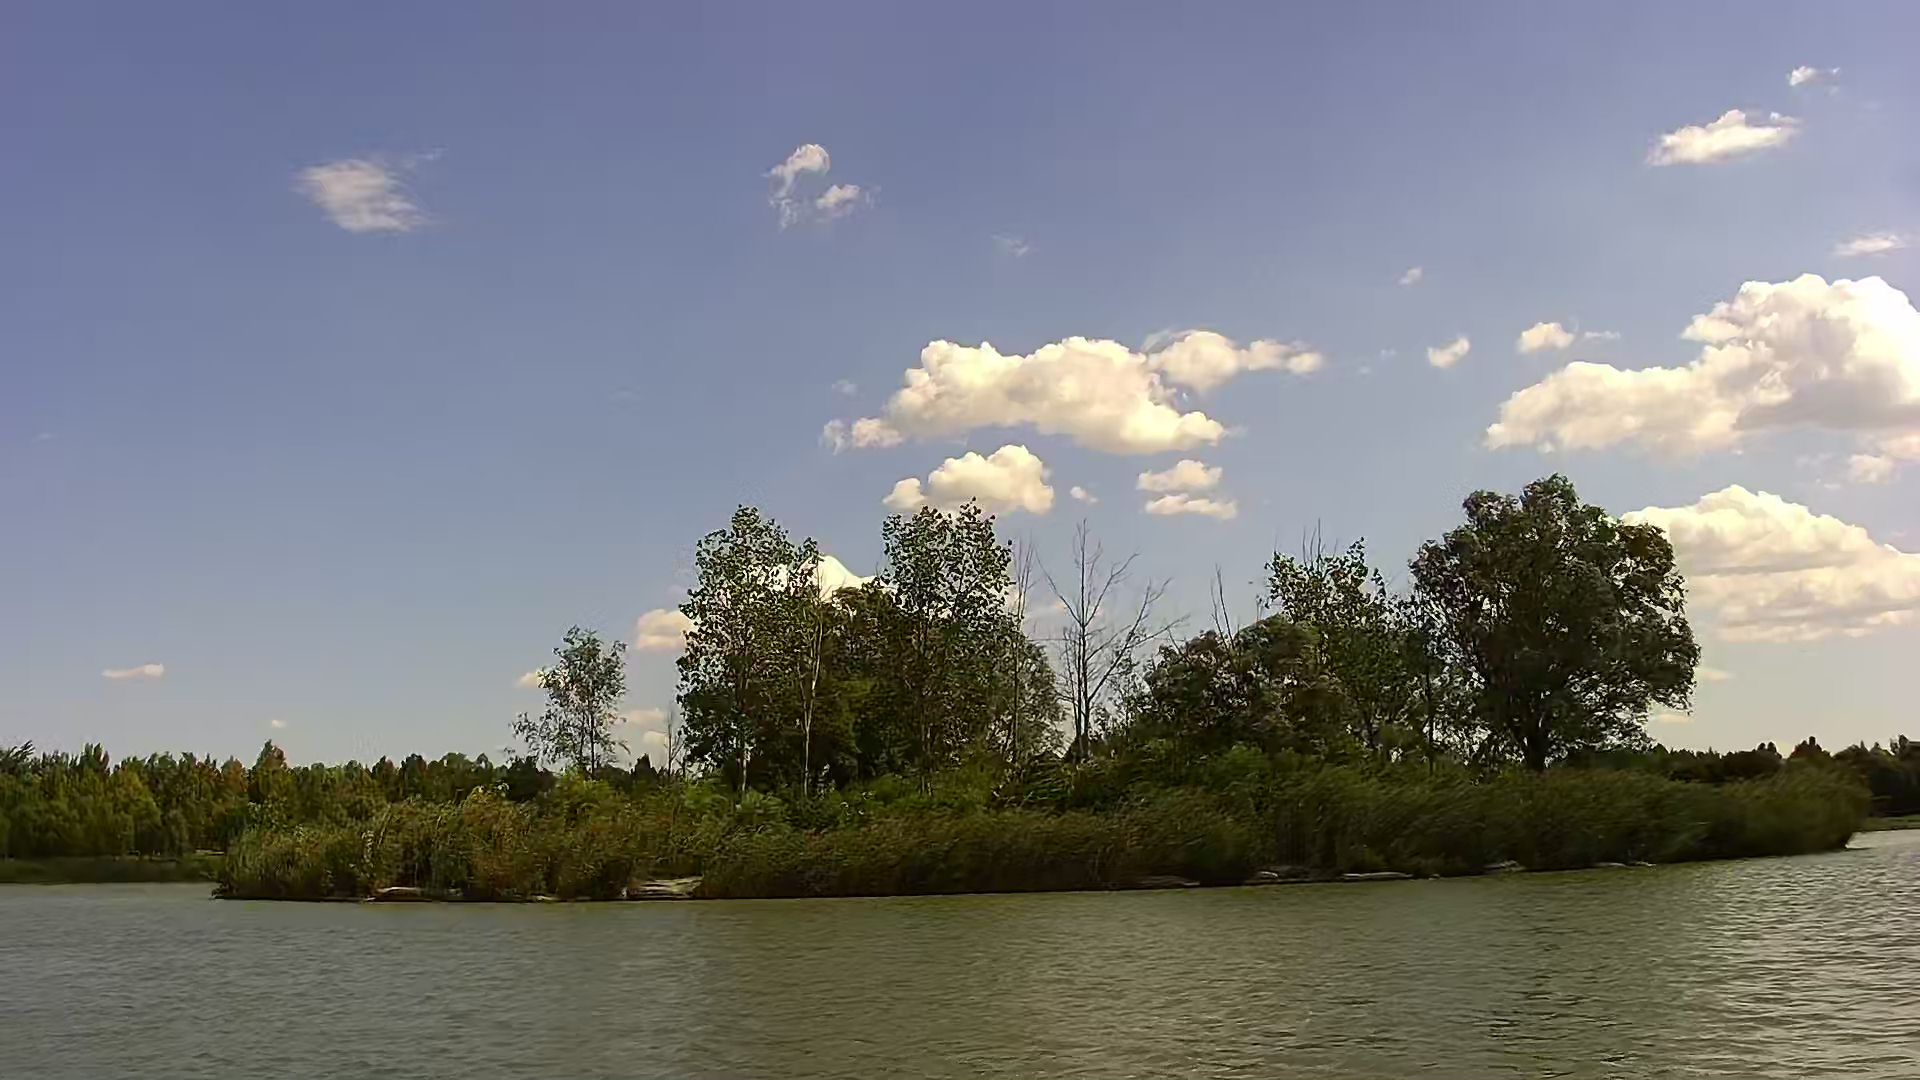rock: (622, 868, 702, 899), (375, 885, 446, 903)
